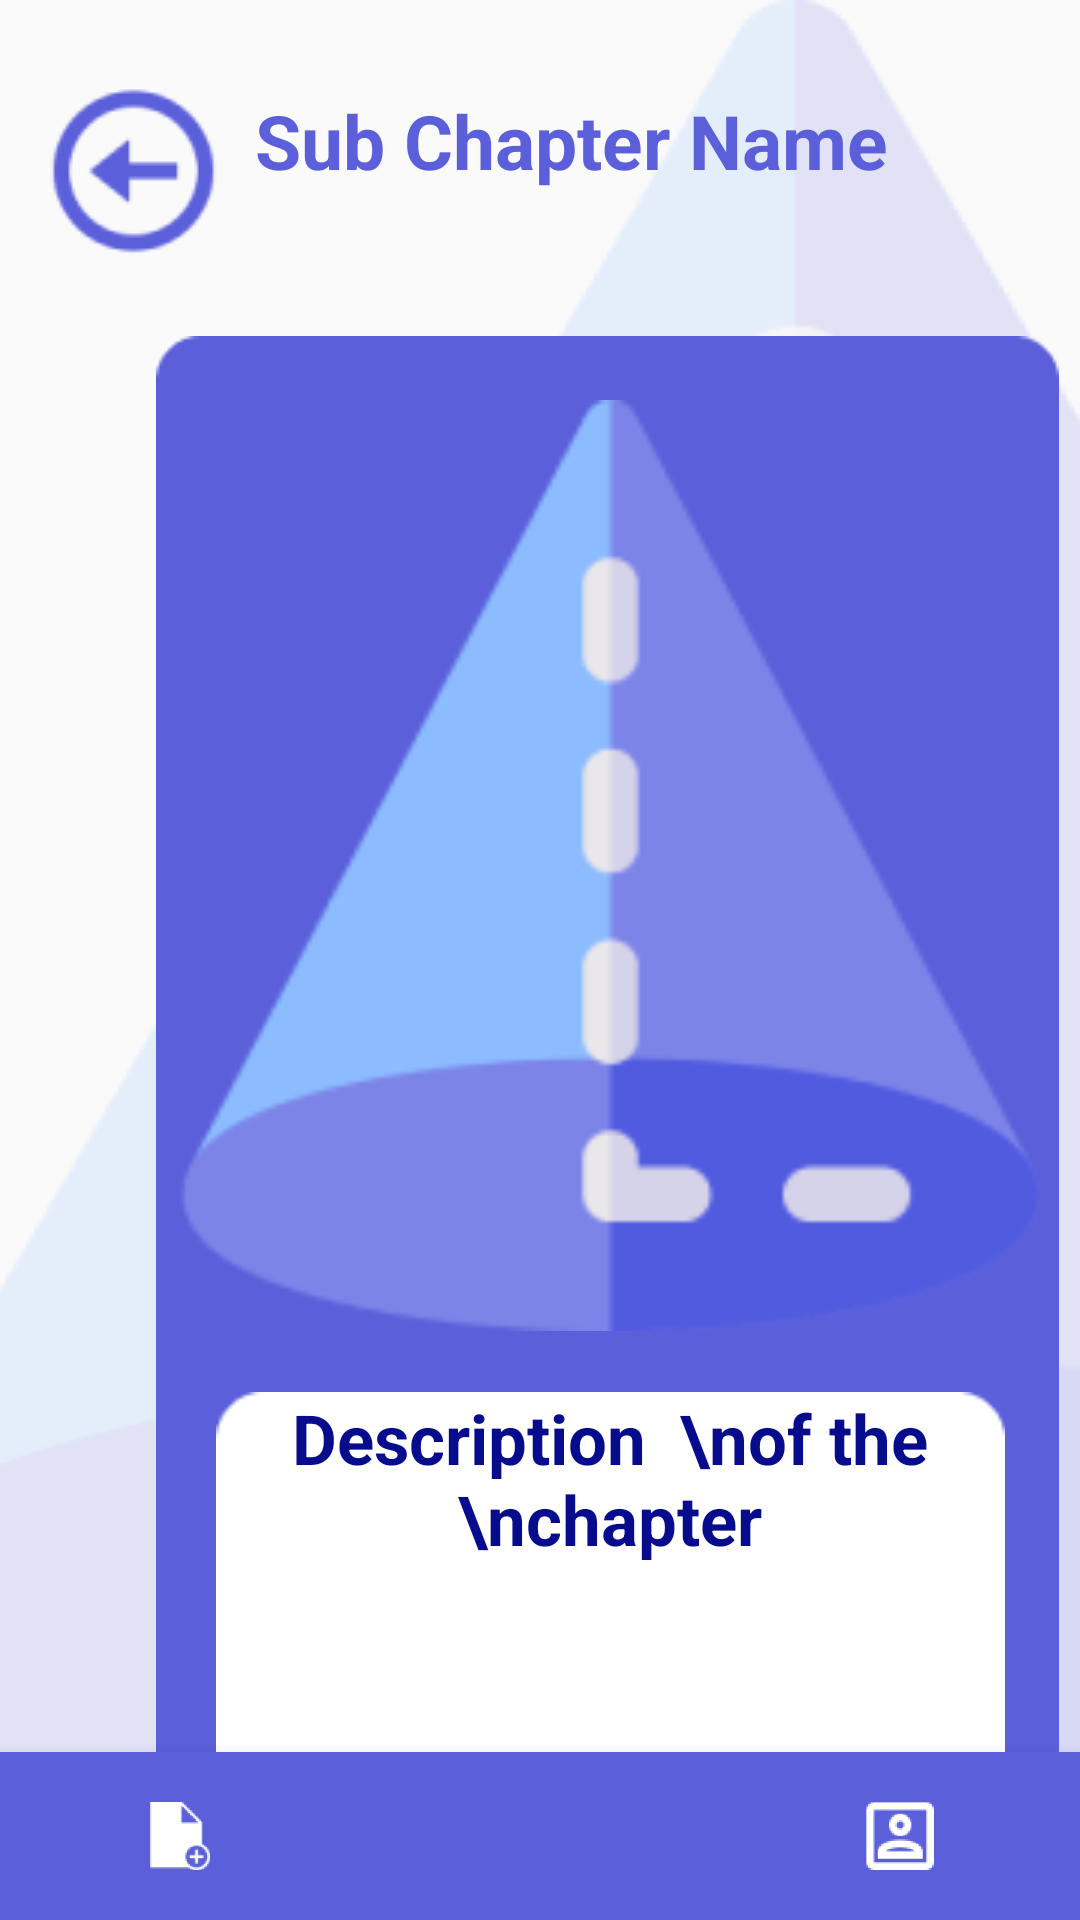

Screen size 1080w x 1920h. Icon name, then its box in pixels as bbox=[x1, y1, x2, y2]:
back: bbox=[53, 89, 214, 253]
